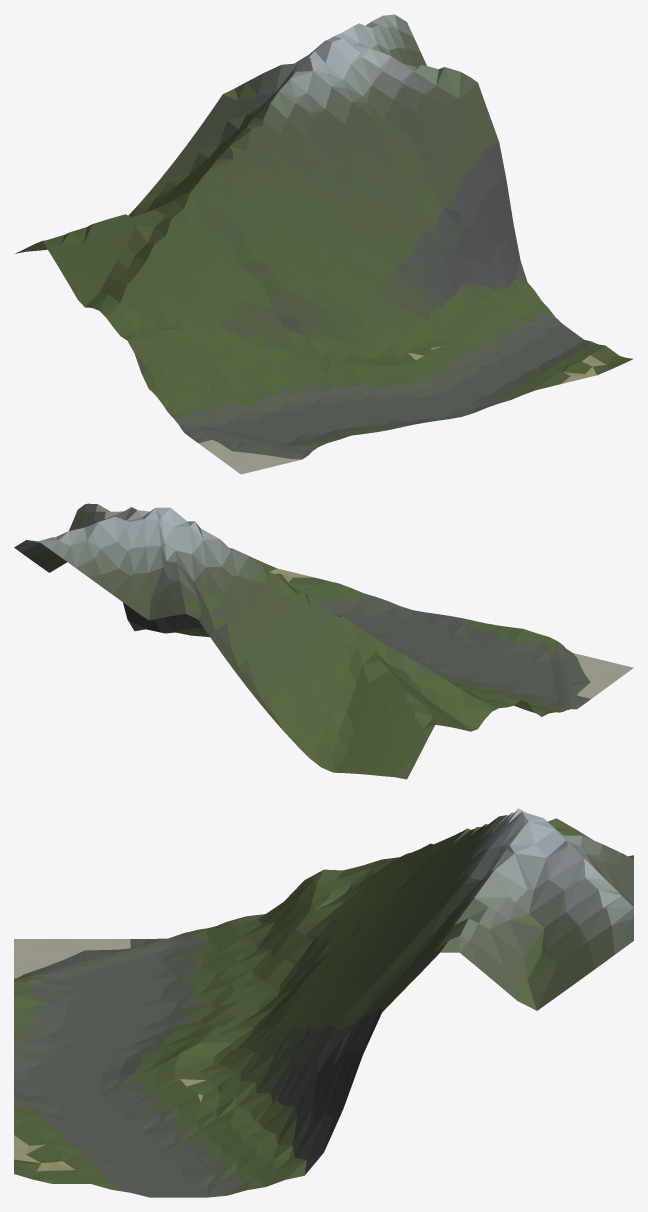
The model's file is Ground_-4_-5.glb.
3 views of the same model, one above another, from view 1: azimuth 30°, elevation 25°; view 2: azimuth 150°, elevation 25°; view 3: azimuth 270°, elevation 25° (orthographic). The views are drawn at different scales.
Visible parts, largest first — view 1: Ground_-4_-5; view 2: Ground_-4_-5; view 3: Ground_-4_-5.
Part boxes in pixels (left/top/right/bottom): Ground_-4_-5: left=15, top=14, right=632, bottom=474; Ground_-4_-5: left=14, top=503, right=633, bottom=779; Ground_-4_-5: left=14, top=808, right=633, bottom=1197.
Size of the model in its own units: 768 by 427 by 768.
